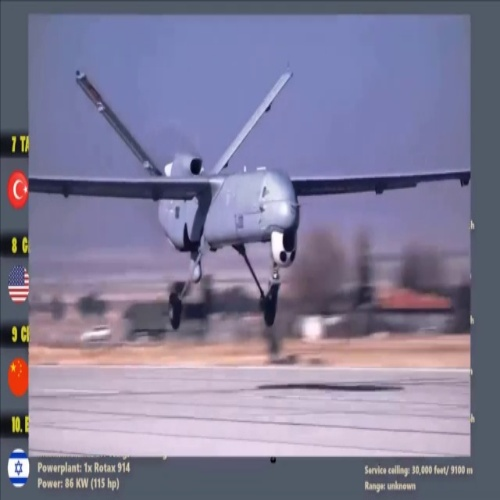uav: (28, 67, 468, 337)
